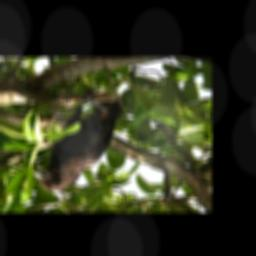Crow: (30, 92, 123, 194)
